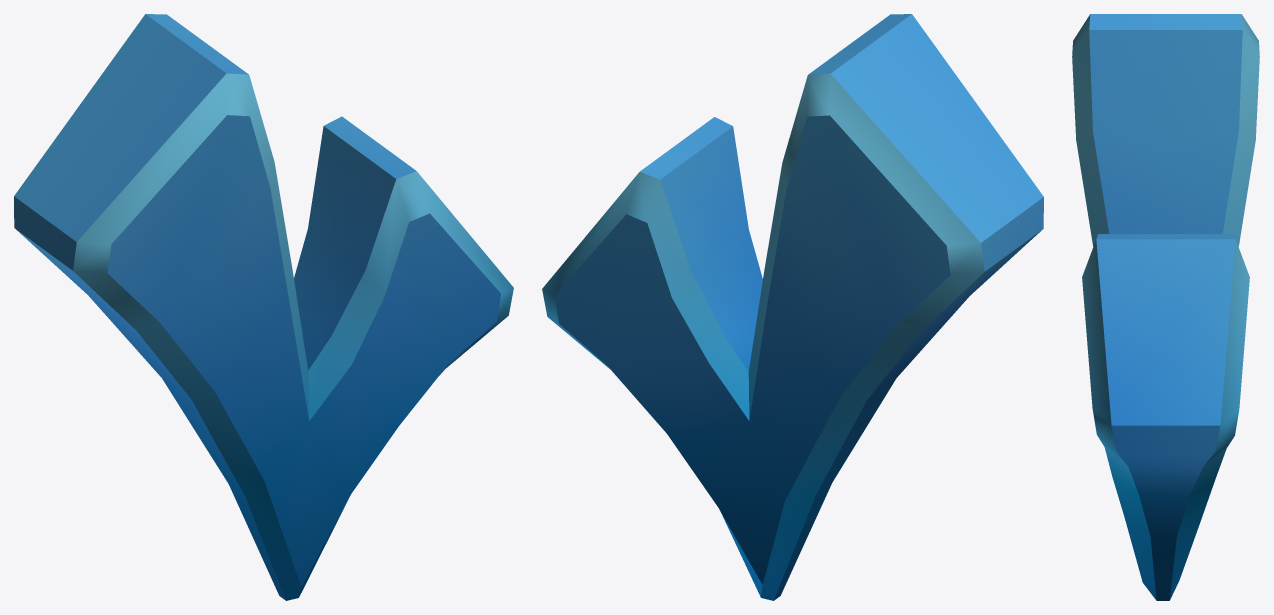
File: SM_Hologram_Checkpoint_01.fbx
The picture shows the model from 3 angles, left to right: view 1: azimuth 30°, elevation 25°; view 2: azimuth 150°, elevation 25°; view 3: azimuth 270°, elevation 25°; orthographic projection. The views are drawn at different scales.
Visible parts, largest first — view 1: SM_Hologram_Checkpoint_01; view 2: SM_Hologram_Checkpoint_01; view 3: SM_Hologram_Checkpoint_01.
Boxes of the visible parts, x1,y1,x2,y2 form: SM_Hologram_Checkpoint_01: (14,14,513,600); SM_Hologram_Checkpoint_01: (542,14,1043,600); SM_Hologram_Checkpoint_01: (1072,14,1259,600).
Bounding box in the file's own units: 1.62 × 2.03 × 0.6423.
